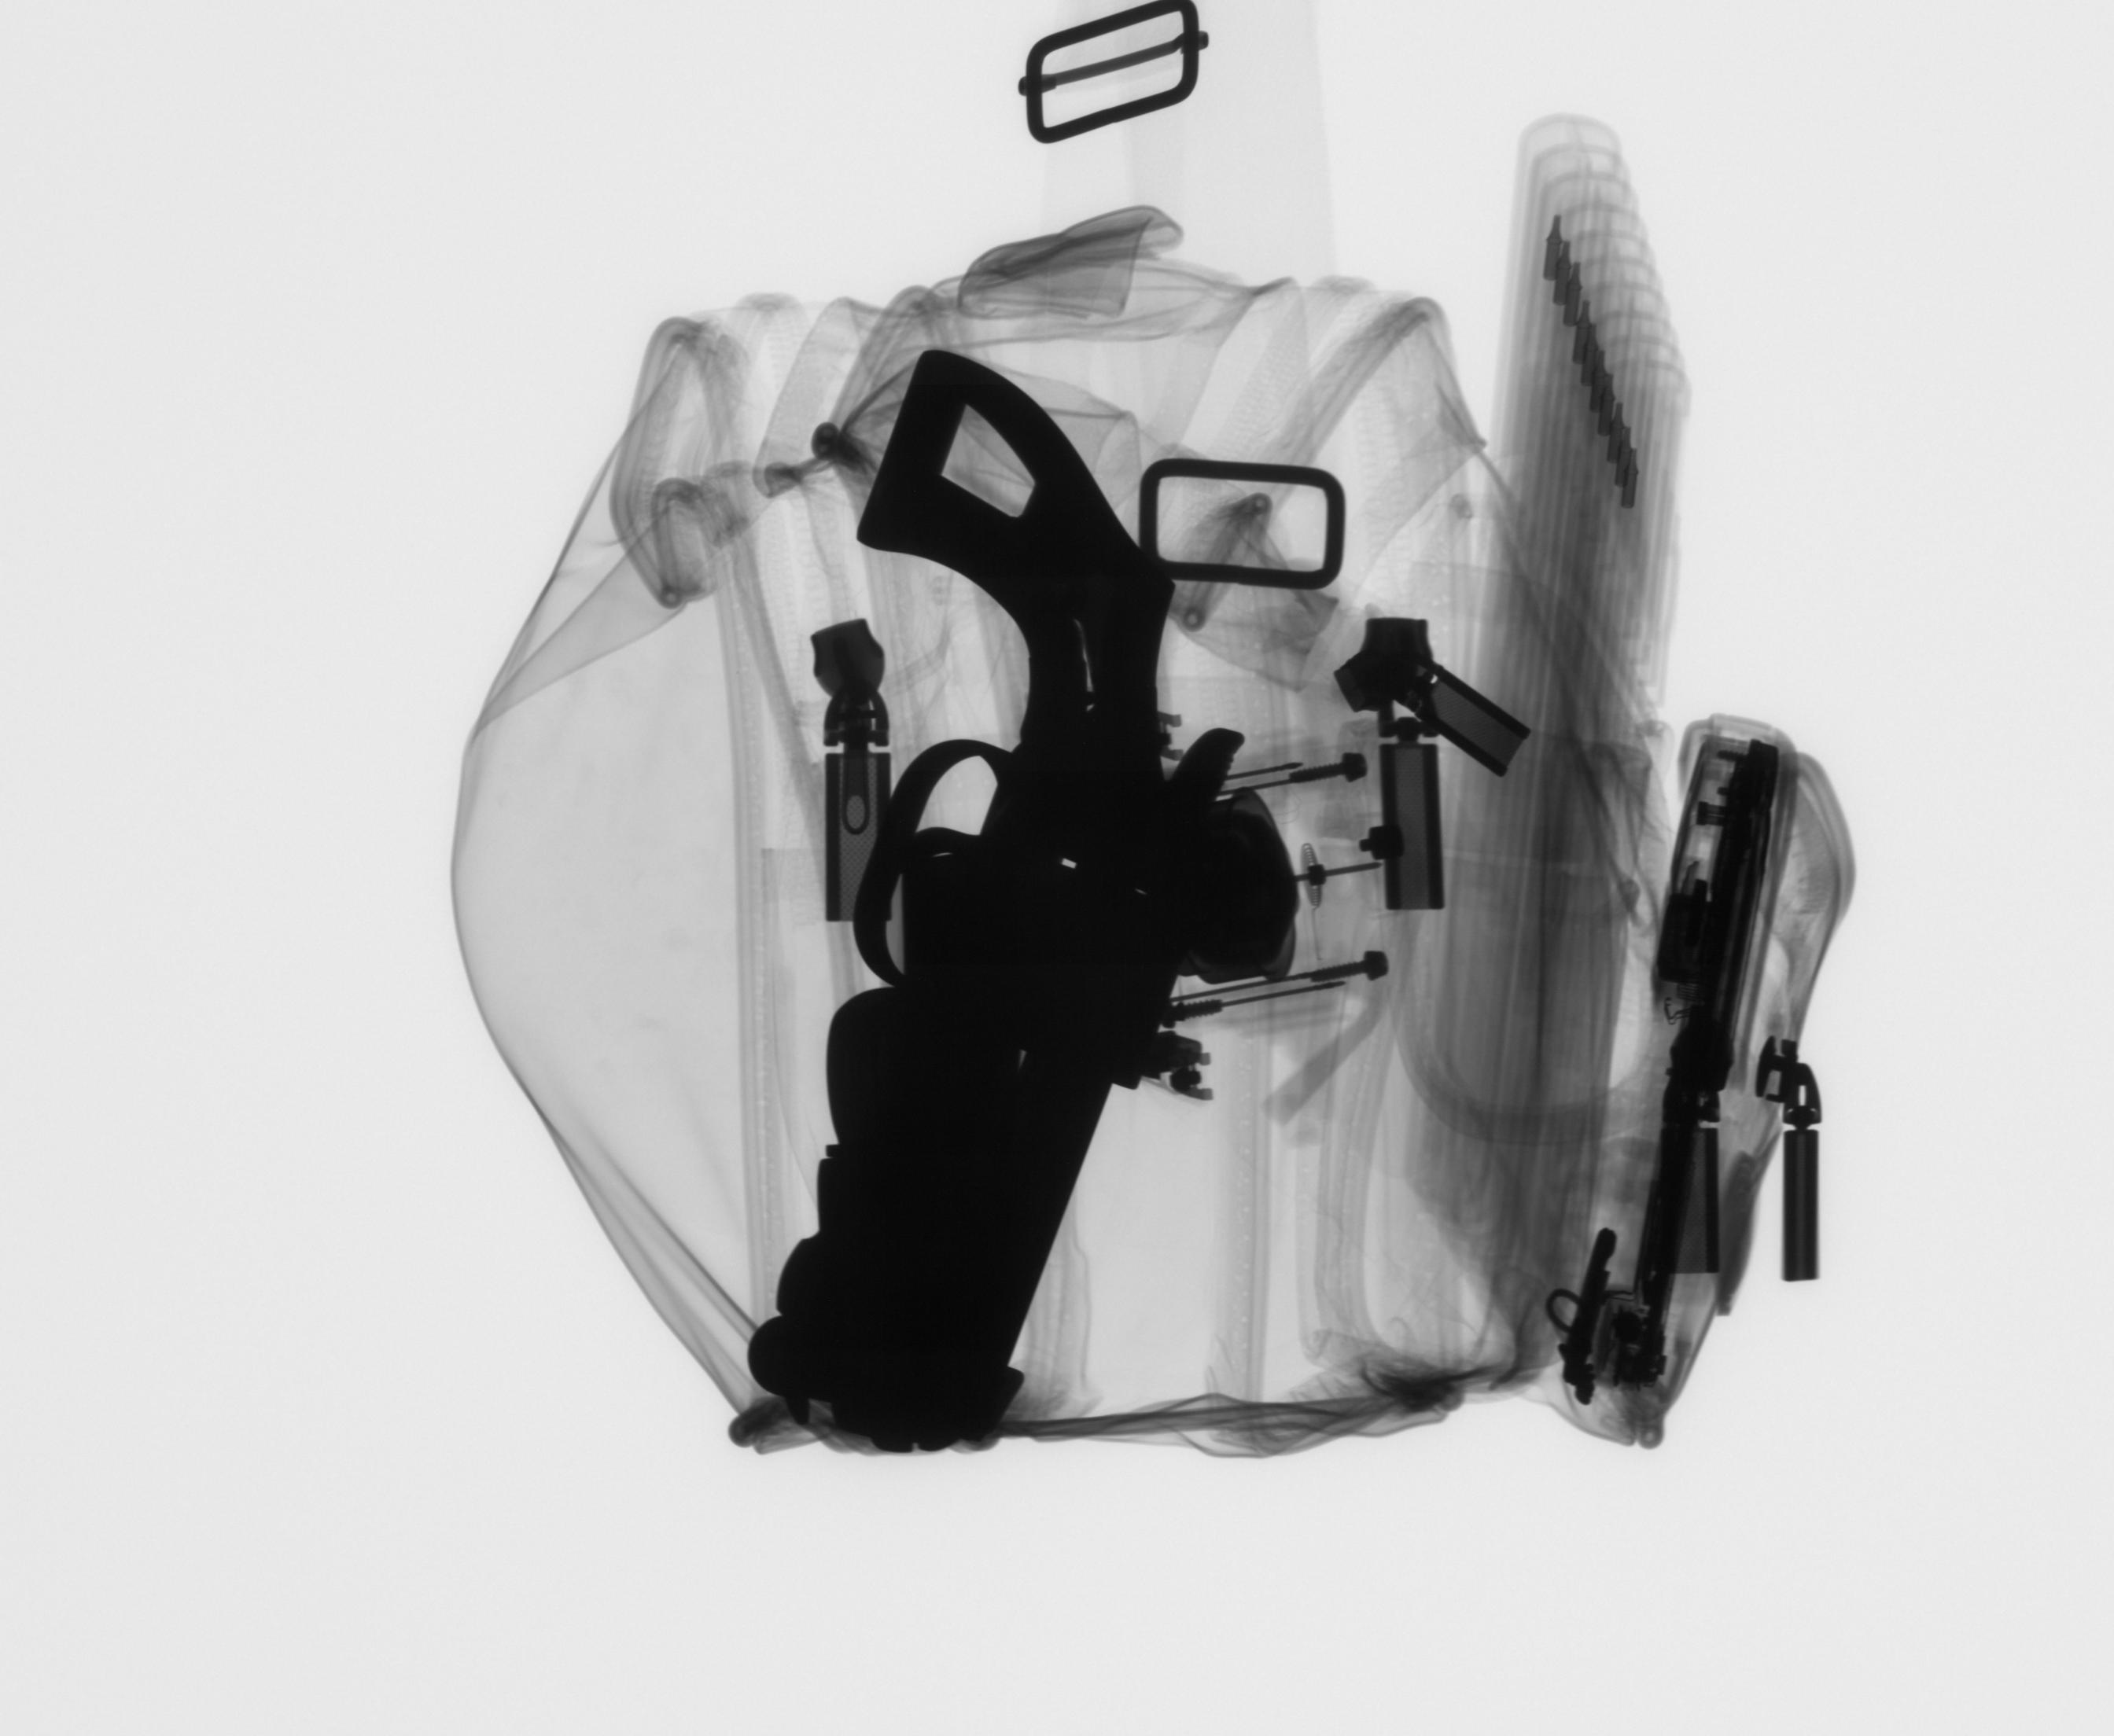Handgun: (832, 334, 1276, 1153)
